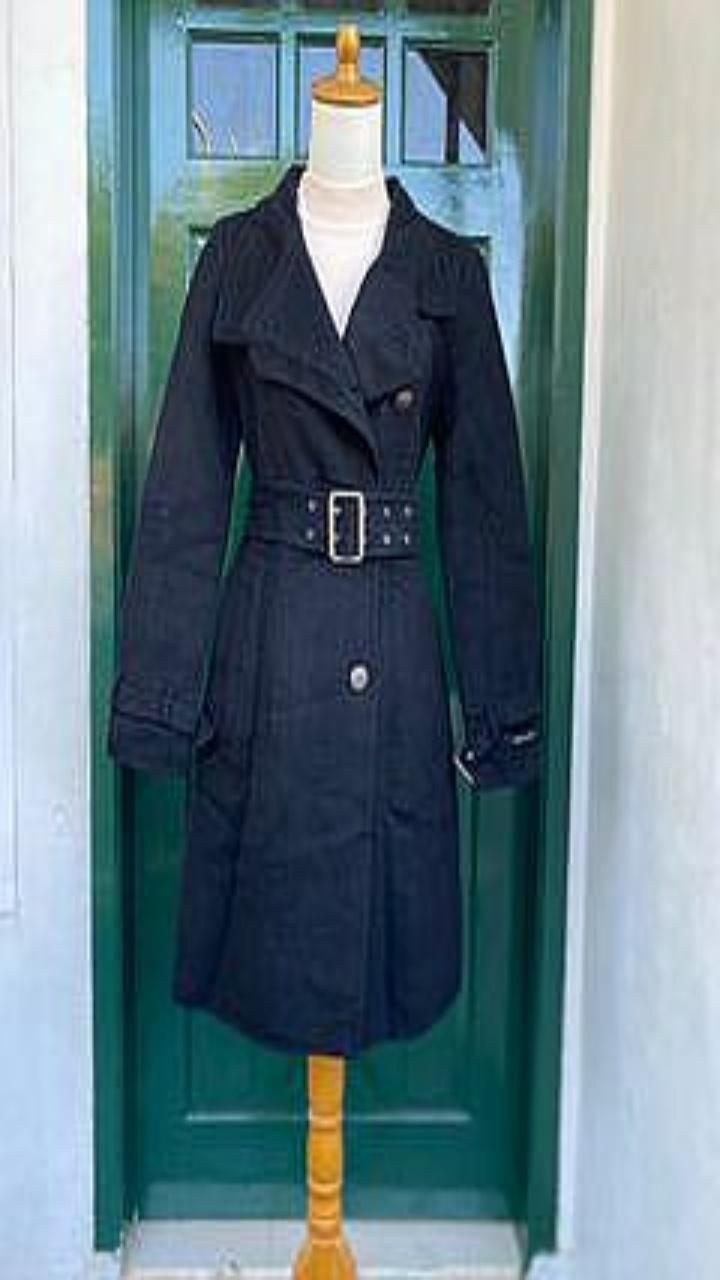Coat: (108, 163, 543, 1055)
